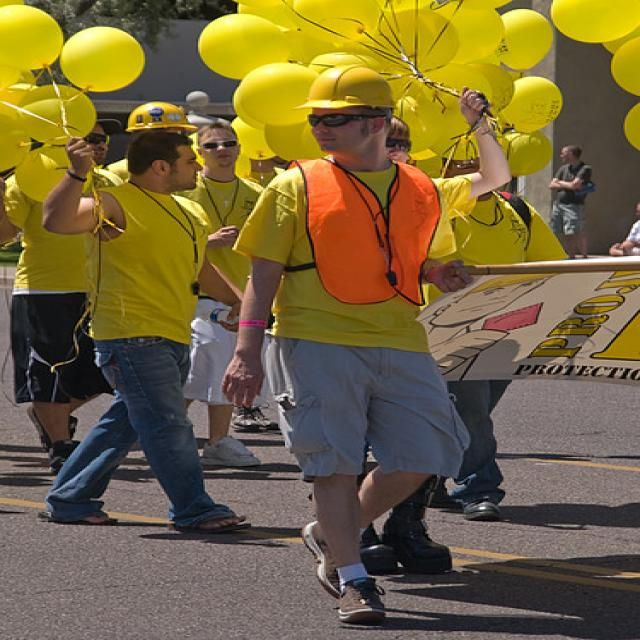Reflective-Jacket: (271, 155, 444, 313)
Safety-Helmet: (296, 60, 400, 115), (123, 97, 201, 137)
